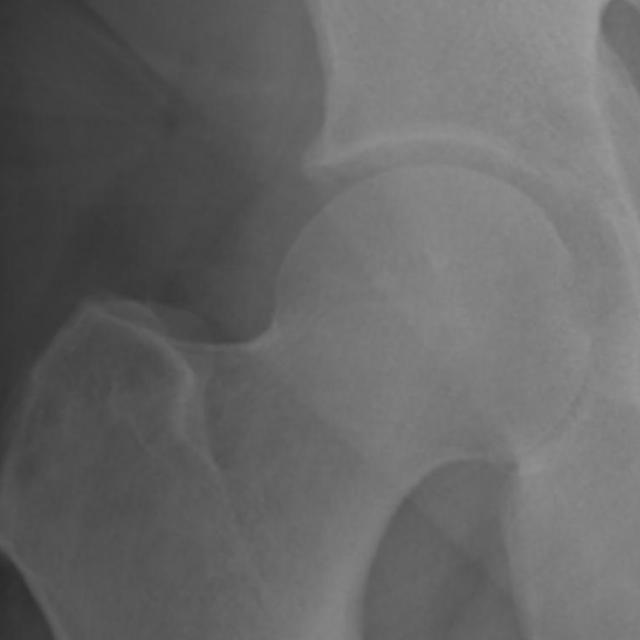Fitted_femural_head: (324, 170, 432, 324)
